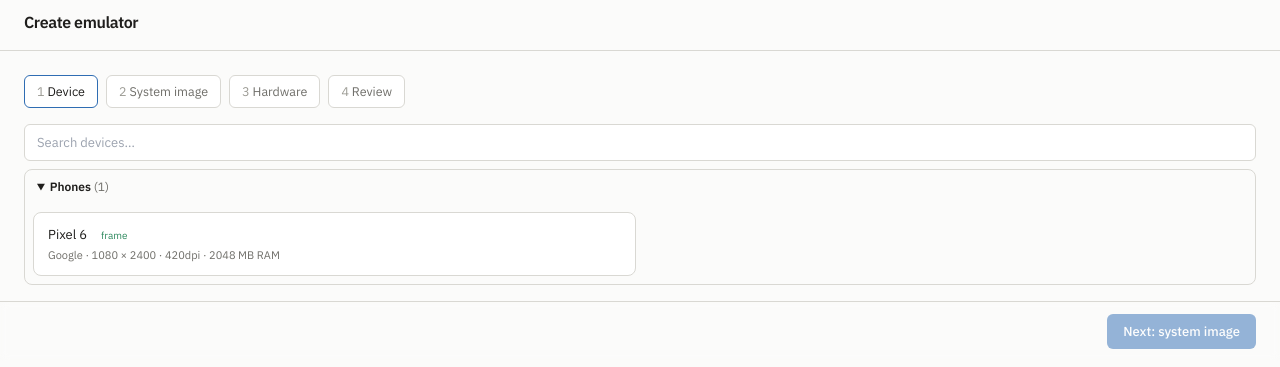
Test case: Create wizard › keeps Next disabled until a device is selected
This screenshot has width=1280, height=367.
Check: the button with test id "next-button" is disabled, box [1107,314,1256,350]
Click the button with test id "device-pixel_6": (68, 235) [33,212,636,276]
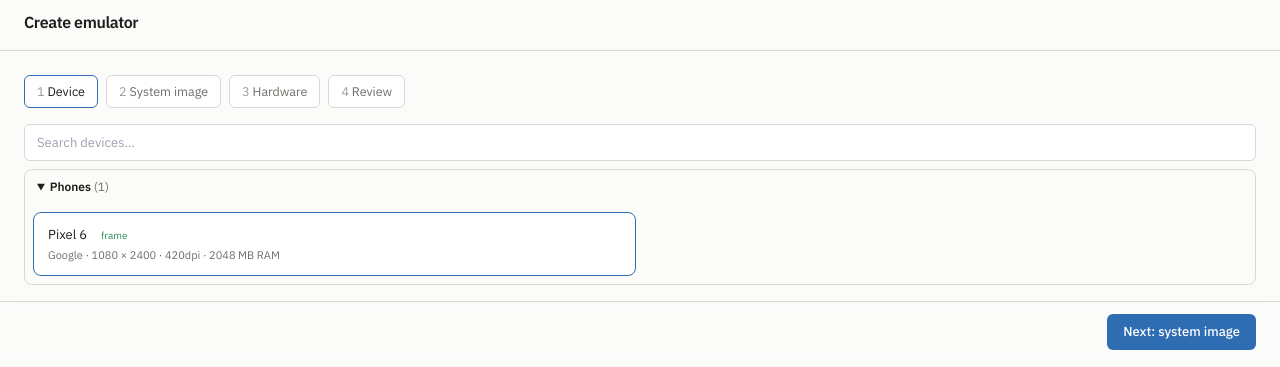
Check: the button with test id "next-button" is enabled, box [1107,314,1256,350]
